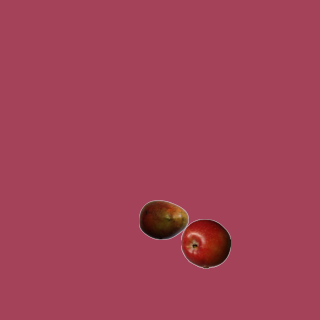Apple Braeburn: (180, 218, 230, 268)
Mango Red: (138, 194, 188, 244)
